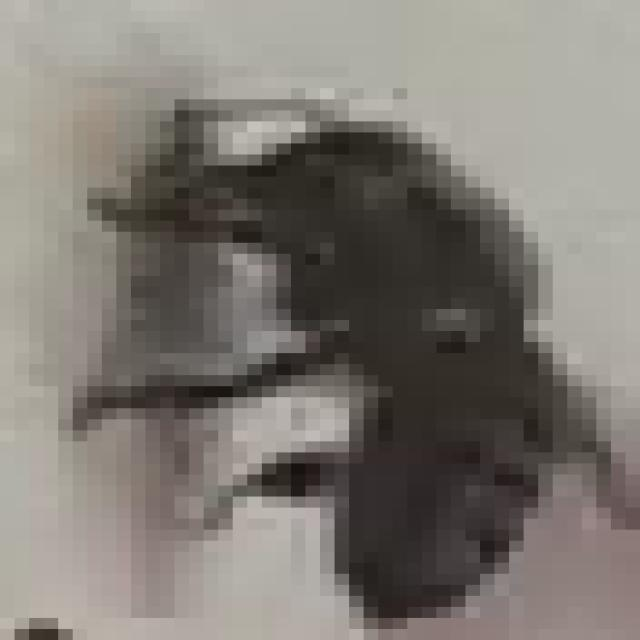honeybee: (58, 66, 626, 640)
